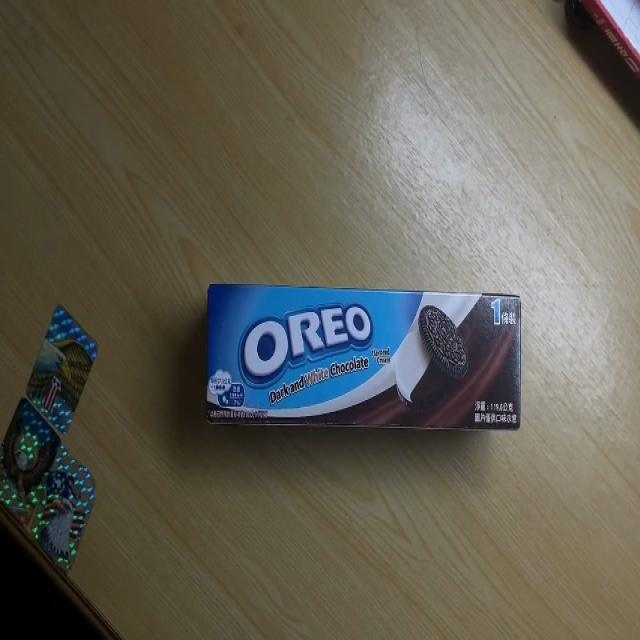Oreo: (206, 280, 522, 434)
